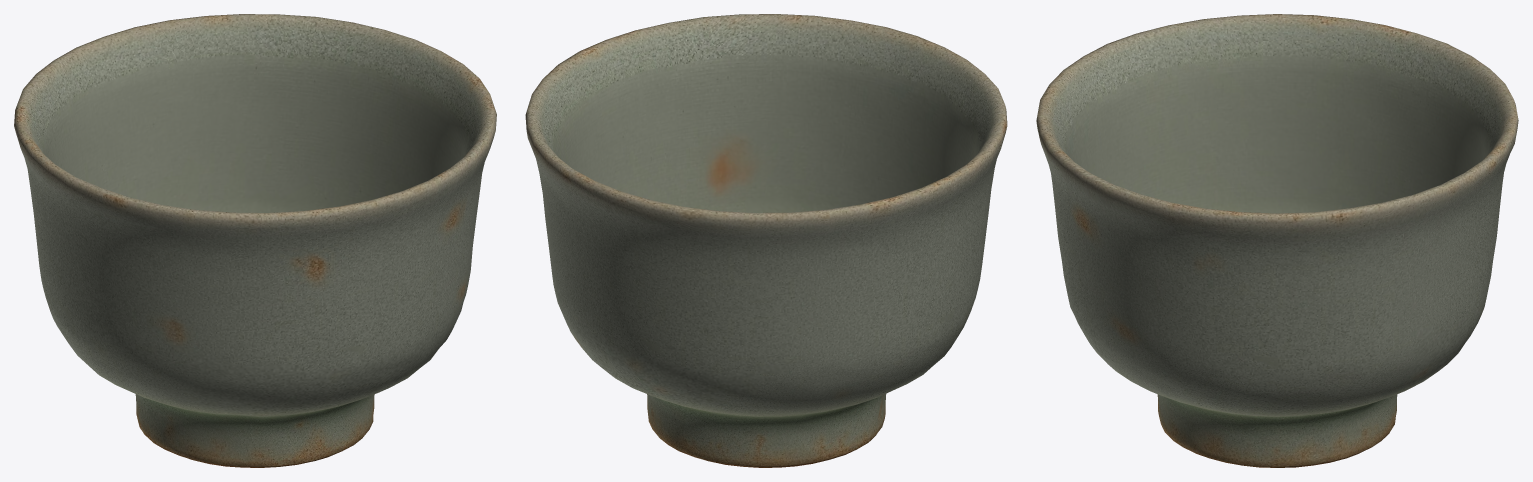
File: tripo_convert_0f1843f6-7276-4e3e-a22d-a87fa343d27d.fbx
3 renders of one model, left to right at view 1: azimuth 30°, elevation 25°; view 2: azimuth 150°, elevation 25°; view 3: azimuth 270°, elevation 25°, orthographic.
Visible parts, largest first — view 1: tripo_node_0f1843f6; view 2: tripo_node_0f1843f6; view 3: tripo_node_0f1843f6.
Part boxes in pixels (box(x1,y1,x2,y2)): tripo_node_0f1843f6: box(14, 14, 496, 467); tripo_node_0f1843f6: box(525, 14, 1007, 467); tripo_node_0f1843f6: box(1036, 14, 1518, 467).
Bounding box in the file's own units: 0.998 × 0.6973 × 0.998.
Materials: 1 (1 with a texture image).
